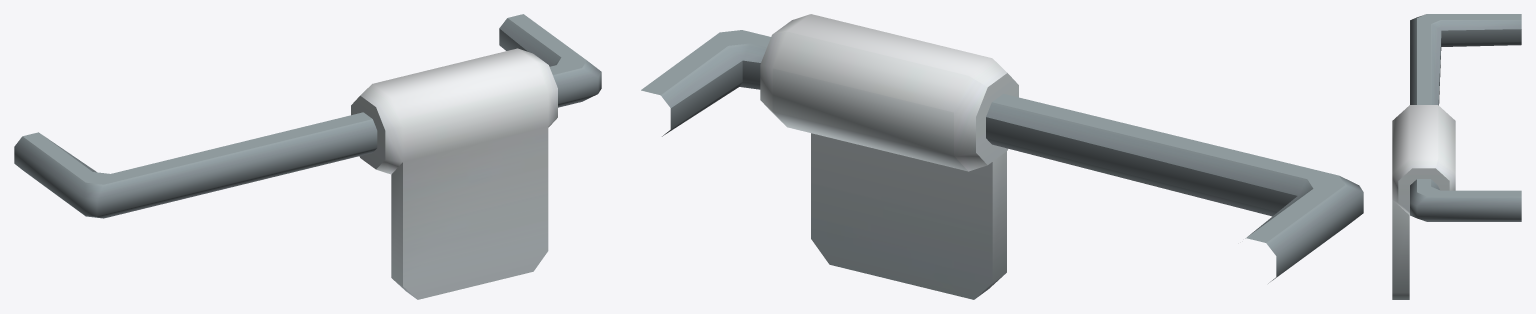
File: towelrail.glb
3 renders of one model, left to right at view 1: azimuth 30°, elevation 25°; view 2: azimuth 150°, elevation 25°; view 3: azimuth 270°, elevation 25°, orthographic. The views are drawn at different scales.
Visible parts, largest first — view 1: towelrail; view 2: towelrail; view 3: towelrail.
Part boxes in pixels (box(x1,y1,x2,y2)): towelrail: box(14, 14, 601, 299); towelrail: box(641, 14, 1363, 299); towelrail: box(1392, 14, 1521, 299).
Size of the model in its own units: 1.6 by 0.5829 by 0.4633.
Materials: 1 (1 with a texture image).
